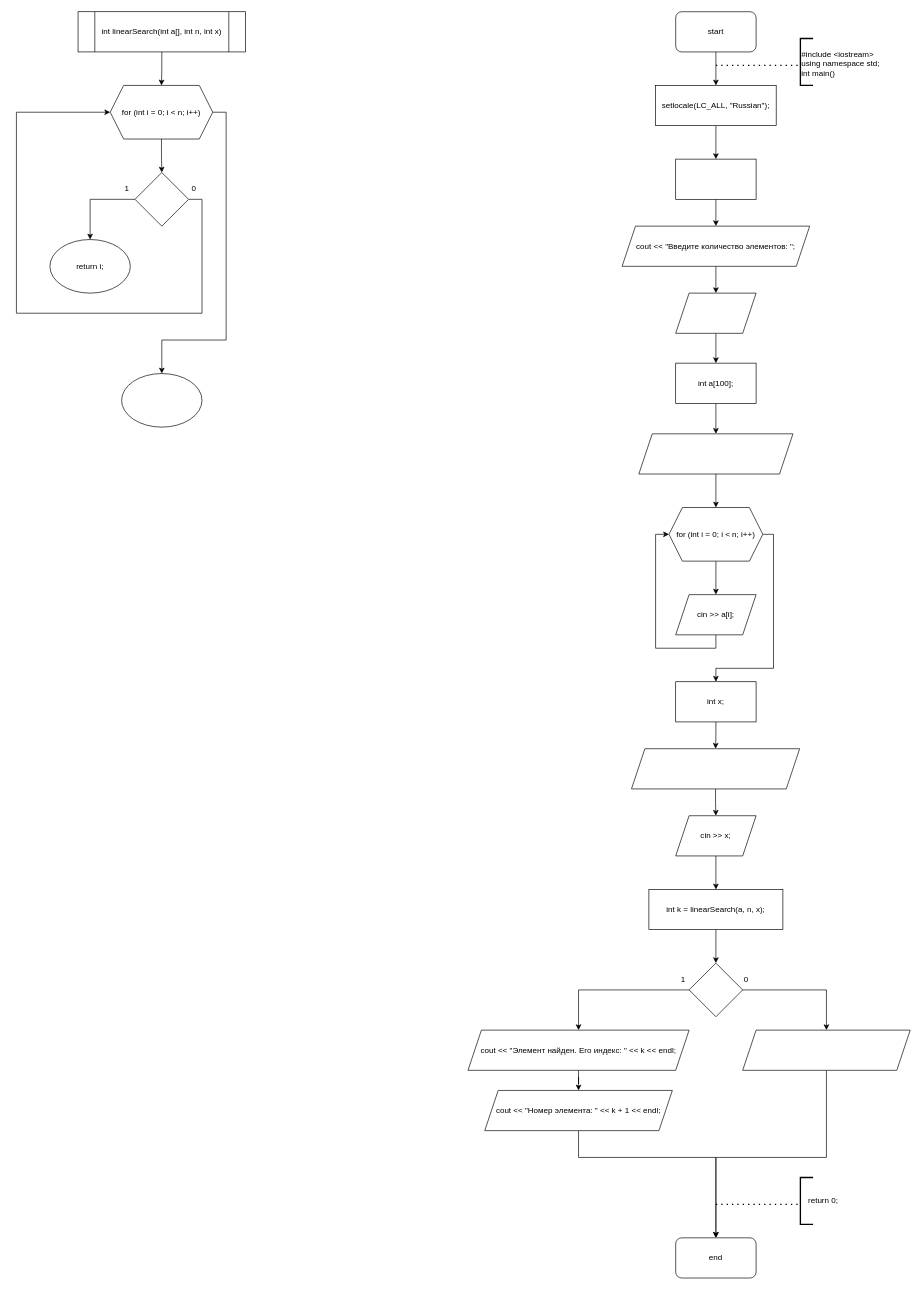
This 922x1290 diagram has some shape labels left out. The box of each missing label's shape, as (x1, y1, x2, y2) in pixels:
cin >> n;: (675, 292, 756, 333)
cout << "Введите массив:" << endl;: (638, 433, 793, 474)
cout << "Введите число для поиска: ";: (631, 748, 800, 789)
cout << "Элемент не найден" << endl;: (742, 1029, 910, 1070)
if (a[i] == x): (134, 172, 189, 226)
if (k != -1): (688, 962, 743, 1017)
int n;: (675, 158, 756, 199)
return -1;: (121, 373, 202, 427)
